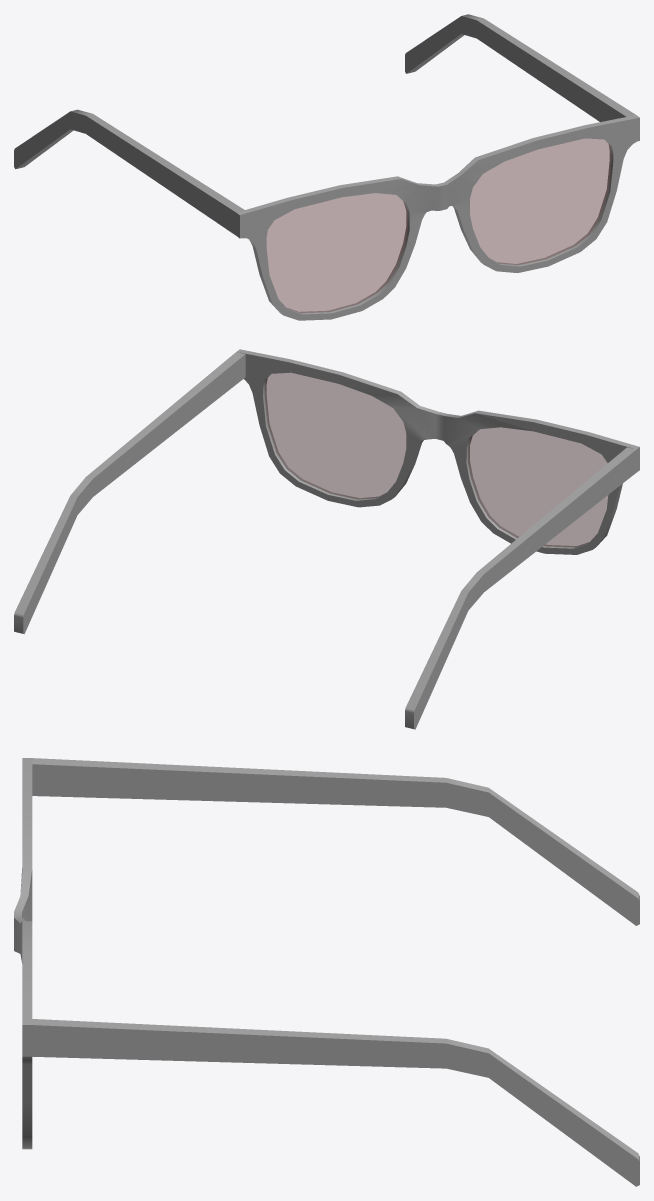
Rendered from glasses.fbx.
3 views of the same model, one above another, from view 1: azimuth 30°, elevation 25°; view 2: azimuth 150°, elevation 25°; view 3: azimuth 270°, elevation 25° (orthographic). The views are drawn at different scales.
Visible parts, largest first — view 1: pCube23, pCylinder23, pCylinder22; view 2: pCube23, pCylinder22, pCylinder23; view 3: pCube23.
Boxes of the visible parts, left/top/right/bottom form: pCube23: left=14, top=14, right=639, bottom=320; pCylinder23: left=266, top=193, right=408, bottom=312; pCylinder22: left=470, top=138, right=611, bottom=264; pCube23: left=14, top=349, right=639, bottom=729; pCylinder22: left=264, top=372, right=406, bottom=499; pCylinder23: left=468, top=427, right=608, bottom=547; pCube23: left=14, top=758, right=639, bottom=1186.
Size of the model in its own units: 9.72 by 2.99 by 9.63.
